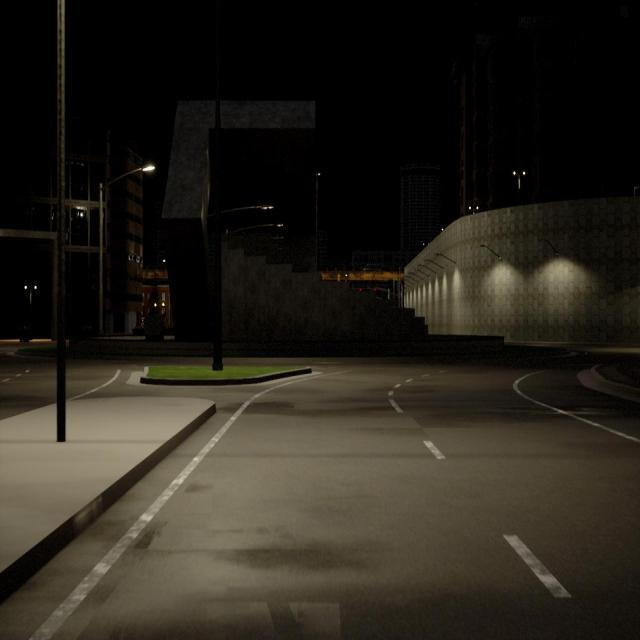traffic_light: (359, 288, 362, 292), (373, 288, 376, 292)
